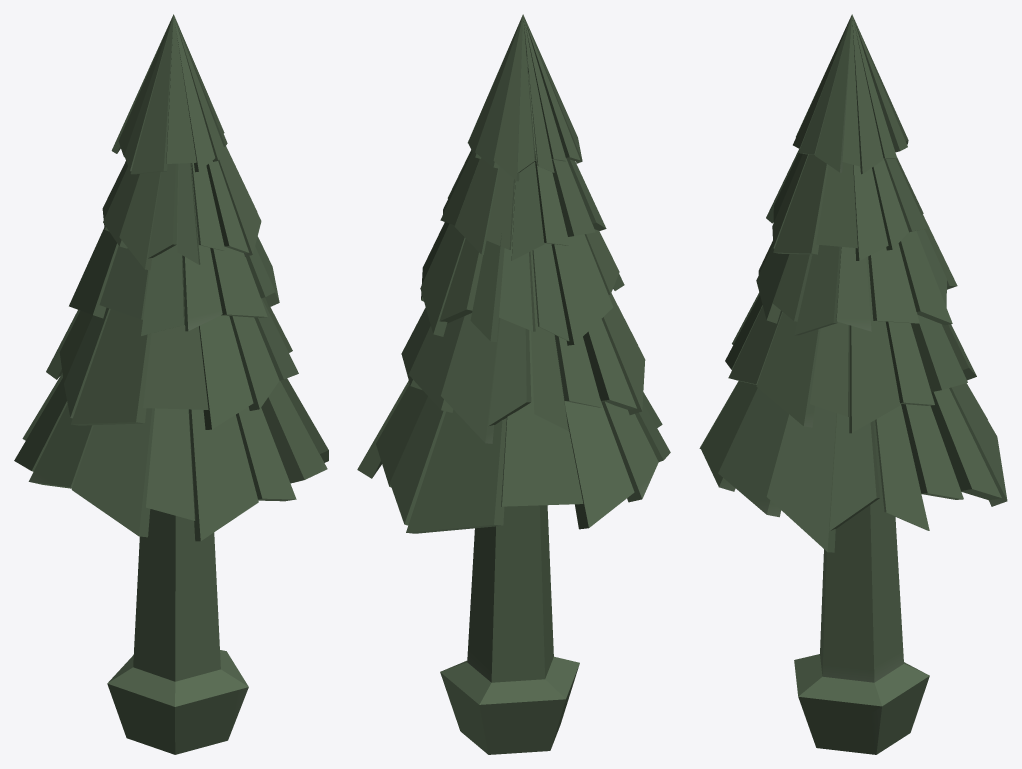
Rendered from evergreen2.fbx.
3 renders of one model, left to right at view 1: azimuth 30°, elevation 25°; view 2: azimuth 150°, elevation 25°; view 3: azimuth 270°, elevation 25°, orthographic.
Visible parts, largest first — view 1: evergreen2; view 2: evergreen2; view 3: evergreen2.
Boxes of the visible parts, x1,y1,x2,y2 form: evergreen2: [14, 14, 328, 754]; evergreen2: [357, 14, 670, 754]; evergreen2: [699, 14, 1007, 754].
Size of the model in its own units: 313 by 786 by 306.
